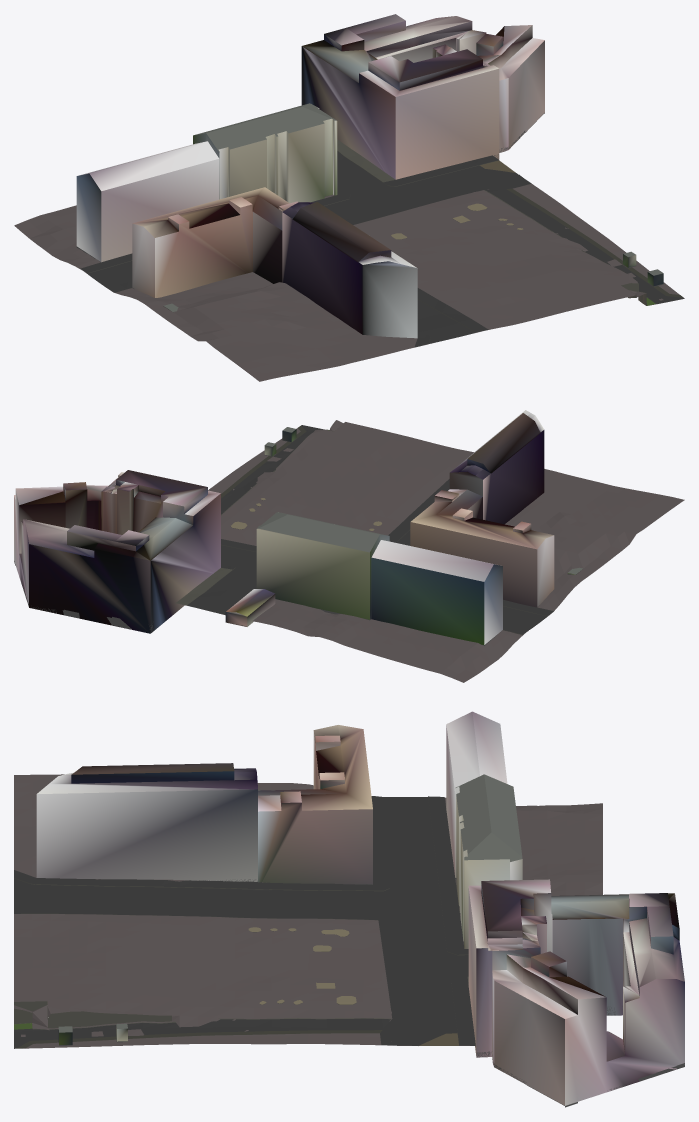
3 renders of one model, top to bottom at view 1: azimuth 30°, elevation 25°; view 2: azimuth 150°, elevation 25°; view 3: azimuth 270°, elevation 25°, orthographic. The views are drawn at different scales.
Visible parts, largest first — view 1: c_m02_m14; view 2: c_m02_m14; view 3: c_m02_m14.
Part boxes in pixels (x1,y1,x2,y2): c_m02_m14: (14,14,684,381); c_m02_m14: (14,410,684,682); c_m02_m14: (14,711,684,1107).
Bounding box in the file's own units: 155 × 29.35 × 146.
